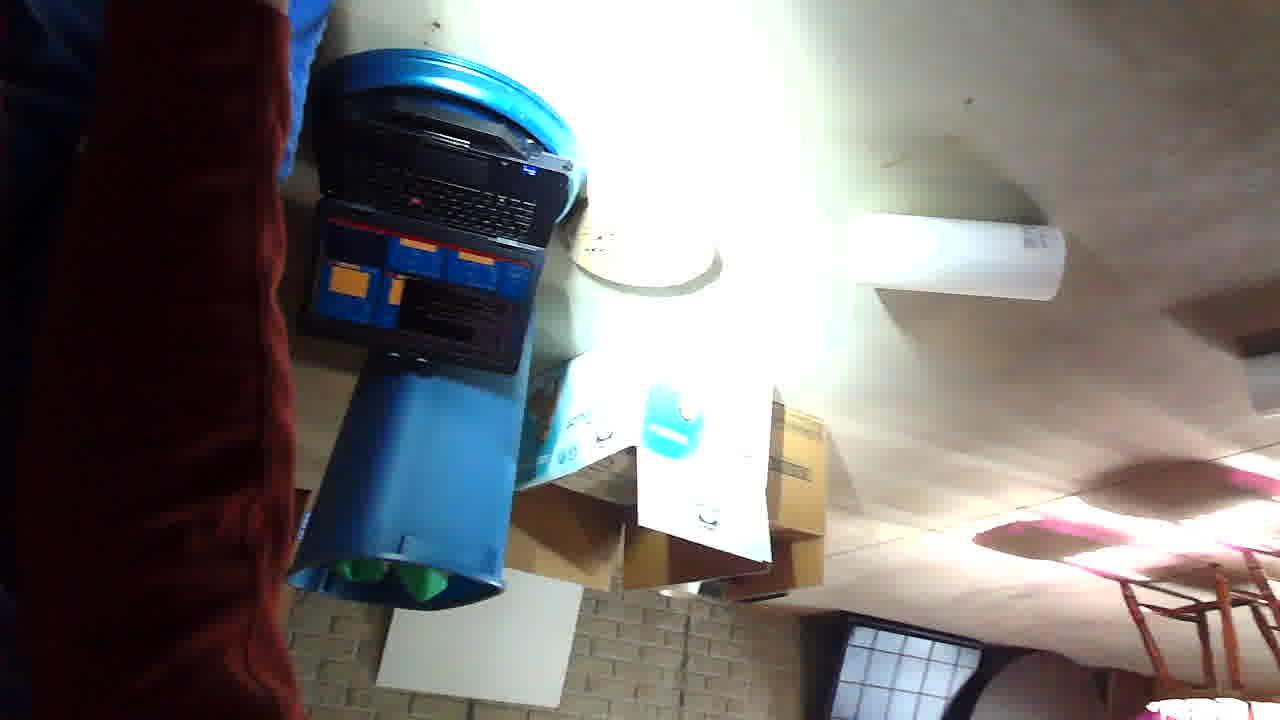coral: (216, 420, 429, 506), (0, 305, 36, 366)
